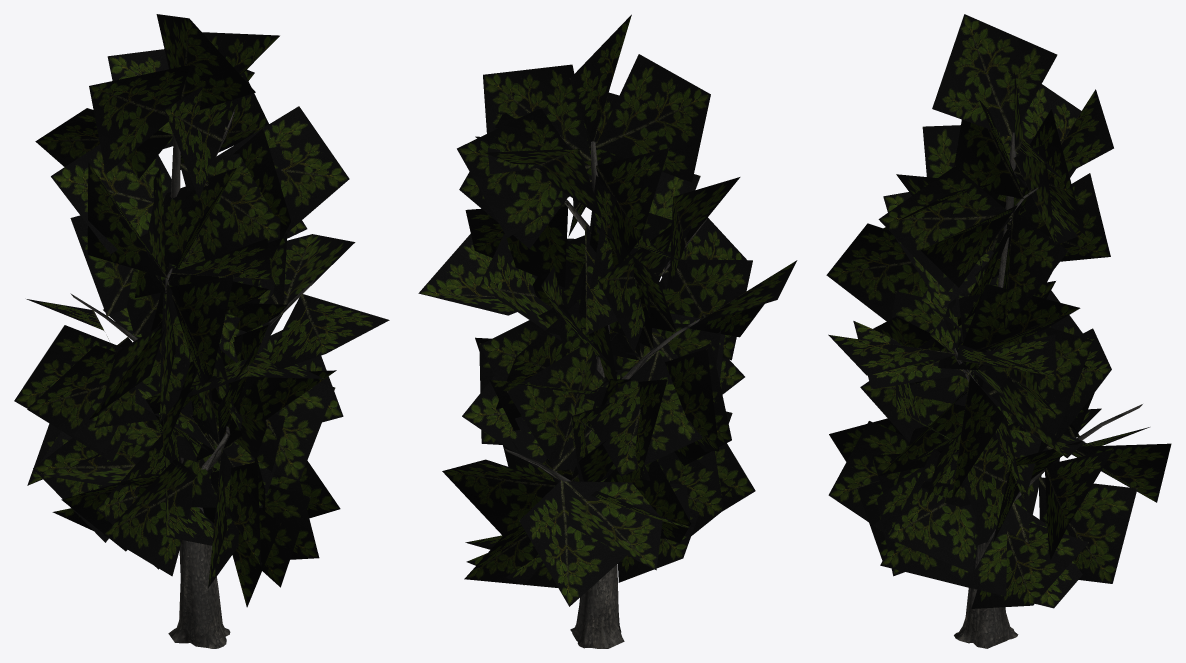
Rendered from tree_5.glb.
3 views of the same model, side by side, from view 1: azimuth 30°, elevation 25°; view 2: azimuth 150°, elevation 25°; view 3: azimuth 270°, elevation 25° (orthographic). The views are drawn at different scales.
Visible parts, largest first — view 1: tree_5_leaves, tree_5; view 2: tree_5_leaves, tree_5; view 3: tree_5_leaves, tree_5.
Boxes of the visible parts, box(x1,y1,x2,y2) form: tree_5_leaves: box(14, 14, 389, 607); tree_5: box(70, 109, 314, 648); tree_5_leaves: box(418, 14, 797, 606); tree_5: box(504, 141, 706, 648); tree_5_leaves: box(826, 14, 1171, 608); tree_5: box(953, 132, 1142, 648).
Bounding box in the file's own units: 3.74 × 6.91 × 3.54.
Materials: 2 (2 with a texture image).
